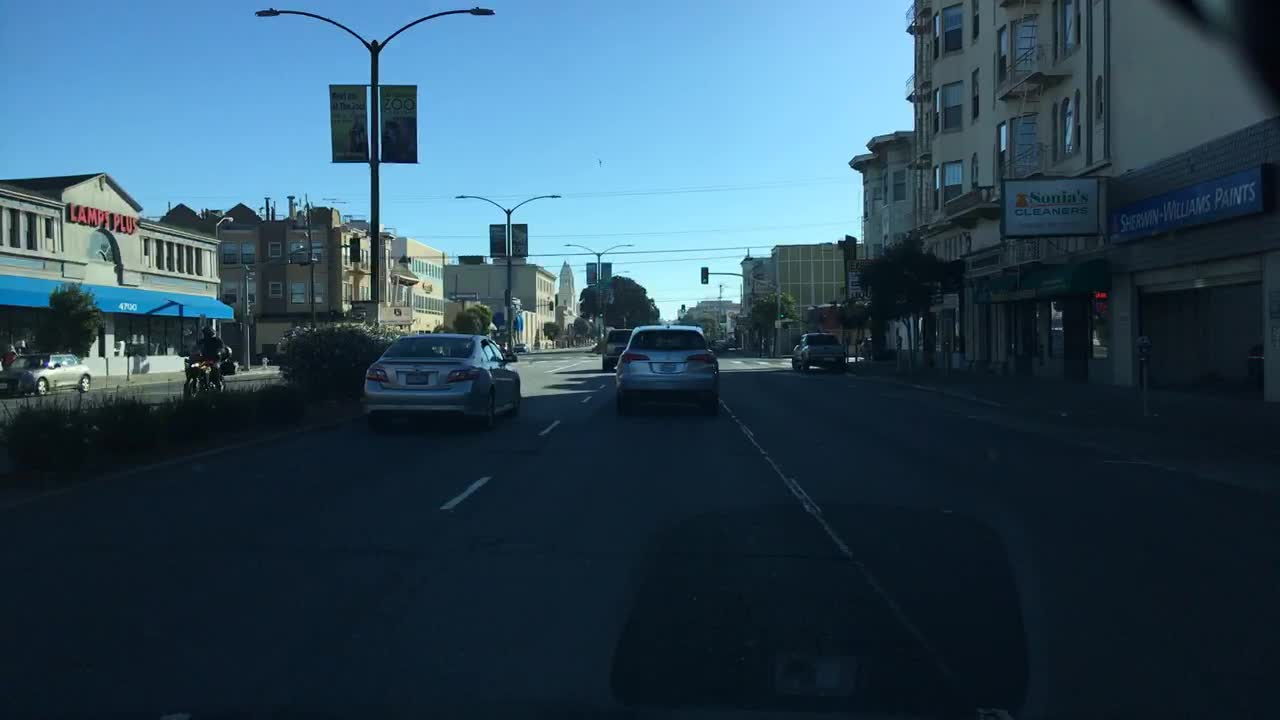car: (359, 330, 523, 431), (613, 322, 722, 414), (0, 350, 93, 396), (791, 328, 846, 371), (600, 327, 638, 371), (857, 336, 874, 358), (708, 339, 728, 353), (510, 342, 531, 352)
motor: (179, 354, 232, 397)
person: (1, 341, 16, 367)
rider: (189, 322, 225, 385)
traffic light: (349, 237, 361, 261), (699, 264, 710, 285), (678, 301, 690, 313), (777, 311, 784, 323)
